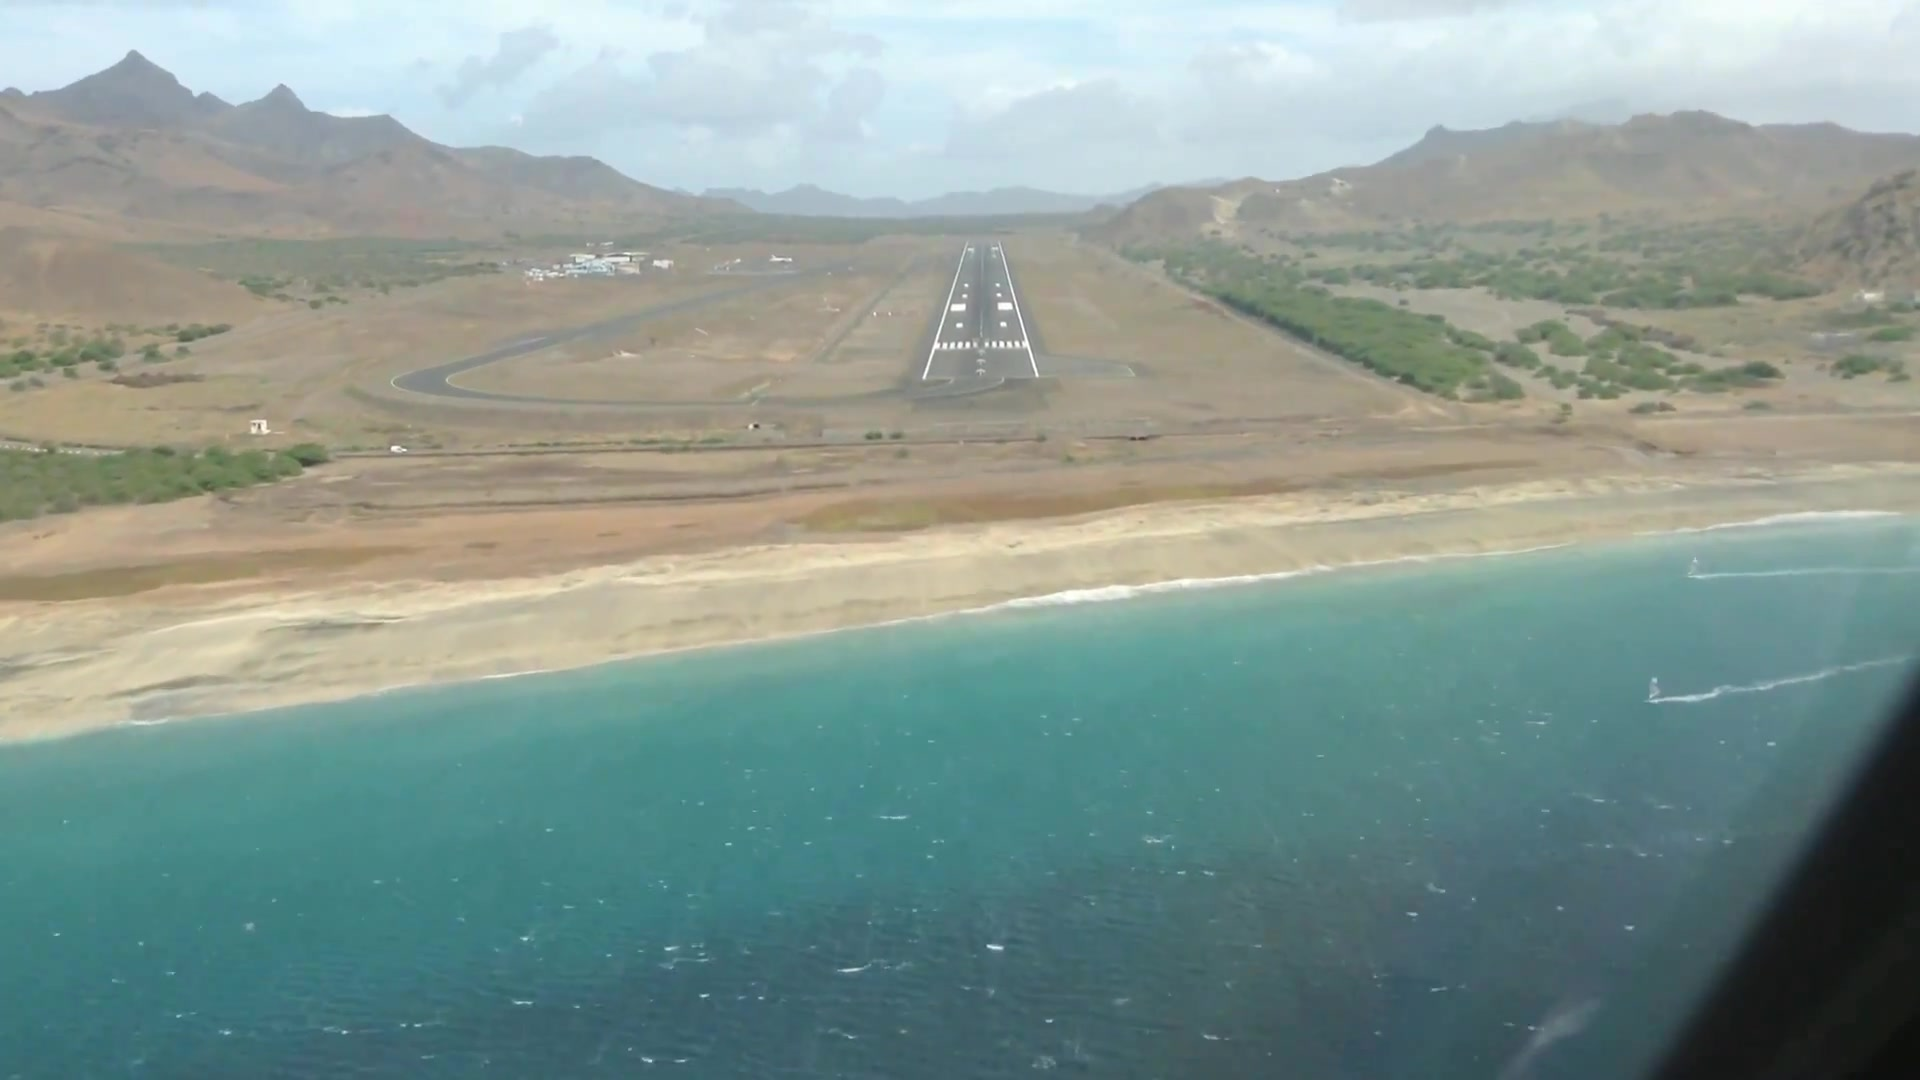entrance: (928, 338, 1033, 352)
runway: (920, 237, 1036, 381)
